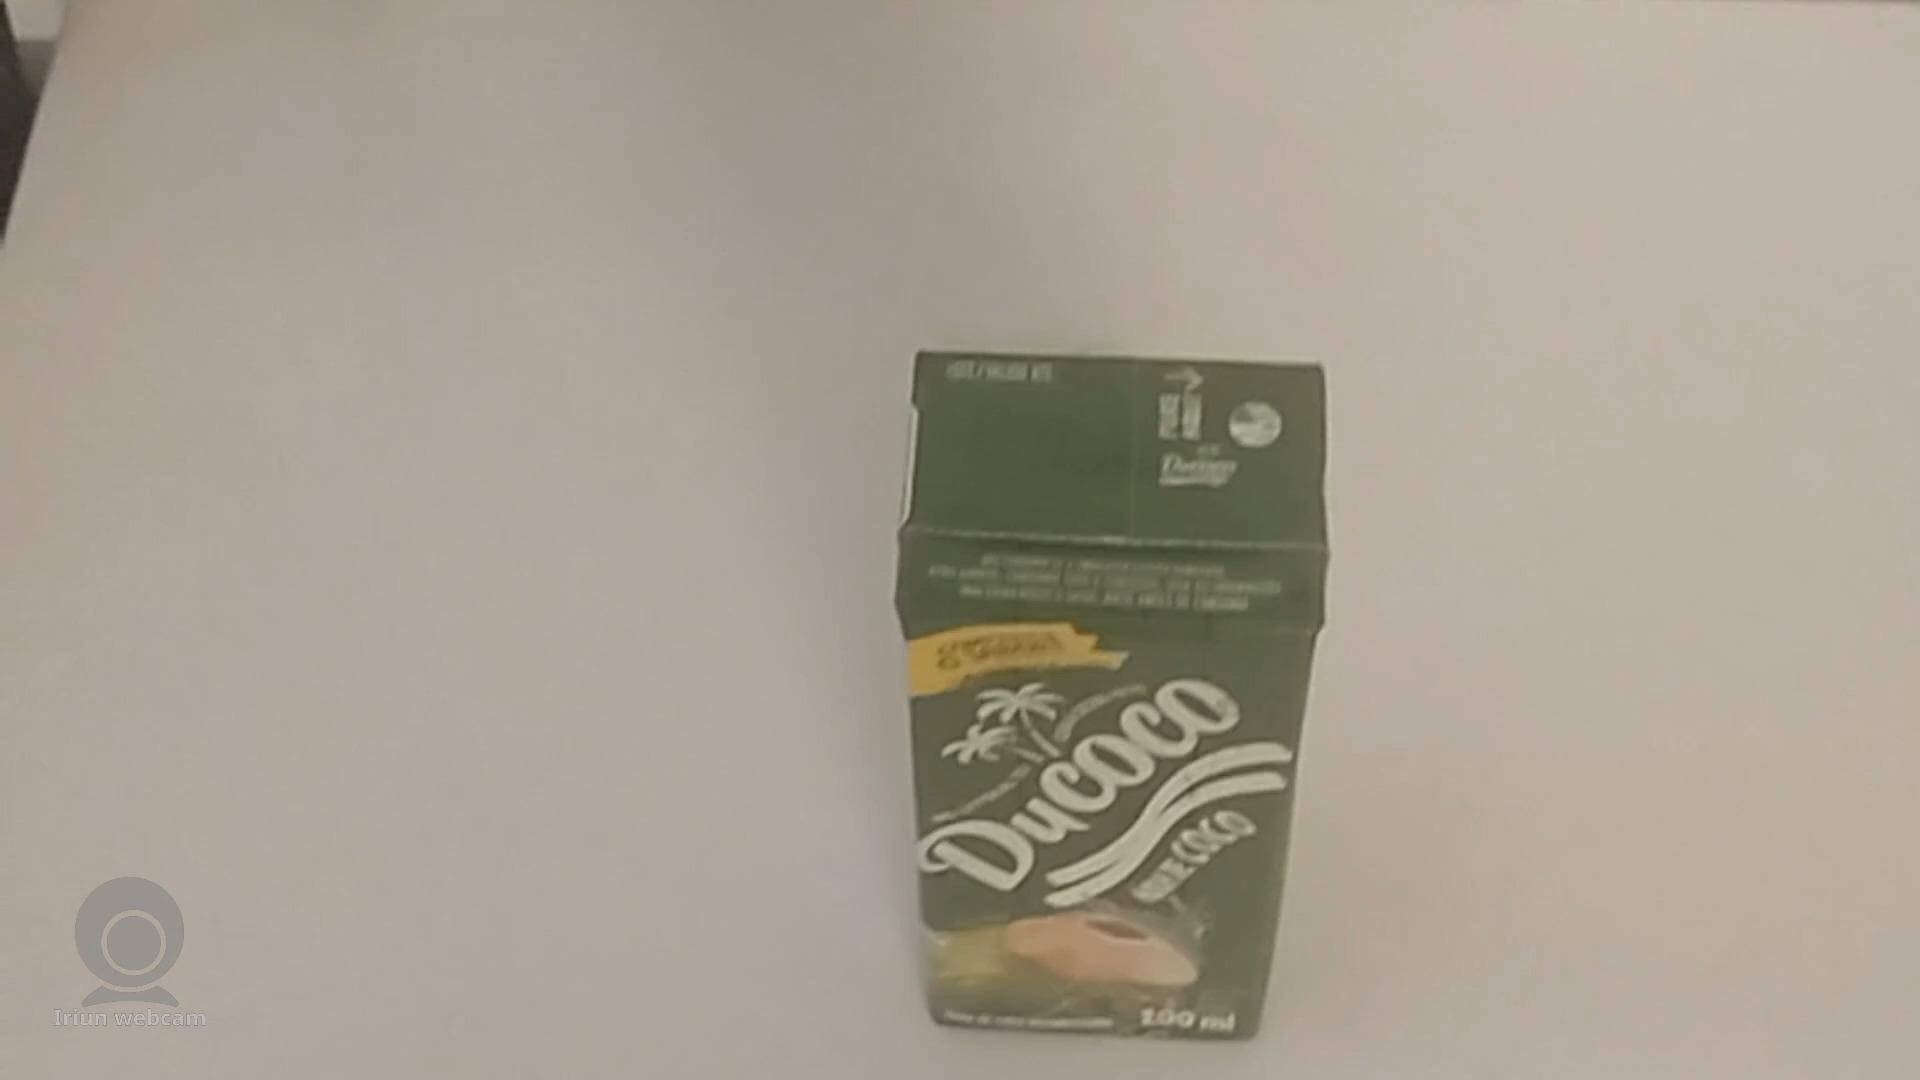coco: (899, 347, 1332, 1048)
